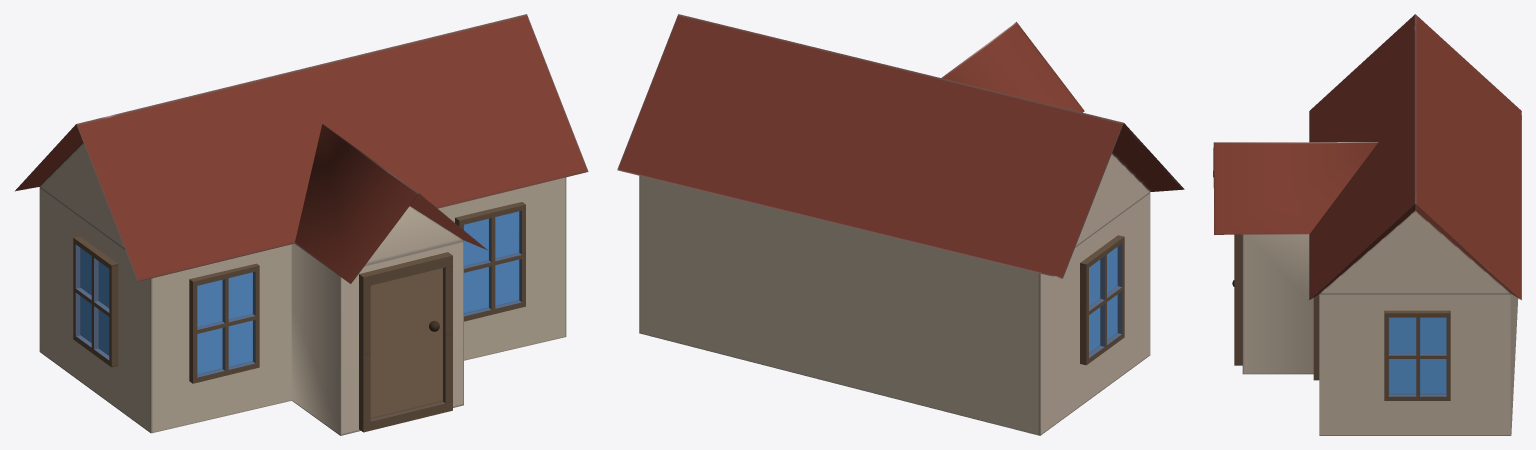
Rendered from House.fbx.
The picture shows the model from 3 angles, left to right: view 1: azimuth 30°, elevation 25°; view 2: azimuth 150°, elevation 25°; view 3: azimuth 270°, elevation 25°; orthographic projection. The views are drawn at different scales.
Parts seen in each view (by area): view 1: pCube1, pCube2, pCube3, pCube4, pCube5, pCube7; view 2: pCube1, pCube2, pCube7; view 3: pCube1, pCube2, pCube6, pCube3, pCube5.
Part boxes in pixels (bbox=[...]): pCube1: bbox=[15, 14, 588, 433]; pCube2: bbox=[291, 124, 487, 435]; pCube3: bbox=[359, 252, 452, 432]; pCube4: bbox=[189, 263, 259, 383]; pCube5: bbox=[455, 202, 525, 321]; pCube7: bbox=[73, 236, 118, 367]; pCube1: bbox=[617, 14, 1184, 435]; pCube2: bbox=[941, 22, 1084, 112]; pCube7: bbox=[1080, 235, 1124, 365]; pCube1: bbox=[1309, 14, 1521, 435]; pCube2: bbox=[1213, 142, 1378, 374]; pCube6: bbox=[1384, 310, 1450, 400]; pCube3: bbox=[1234, 234, 1242, 365]; pCube5: bbox=[1313, 294, 1319, 380].
Size of the model in its own units: 2.61 by 1.54 by 1.8.
